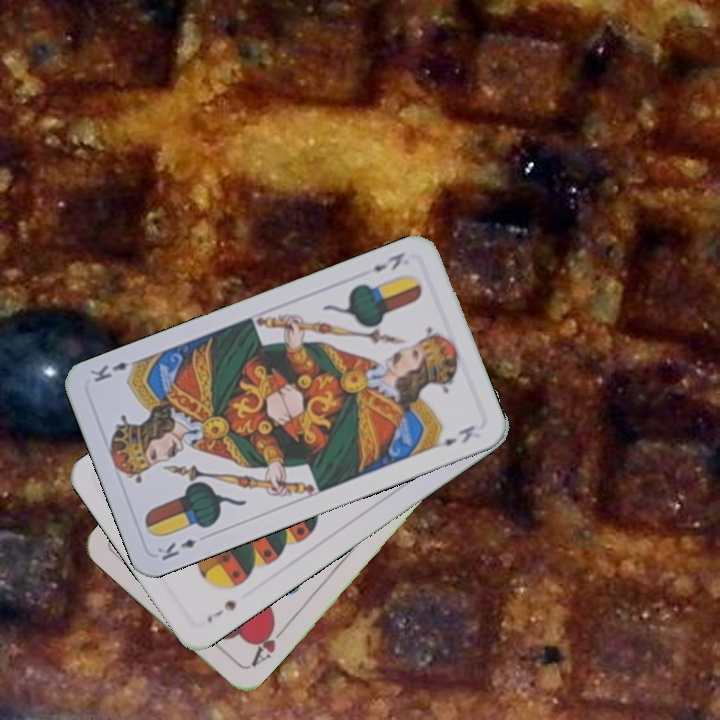EK: (153, 534, 199, 563), (368, 248, 407, 275)
HA: (246, 618, 289, 670)
S7: (202, 596, 239, 625)
